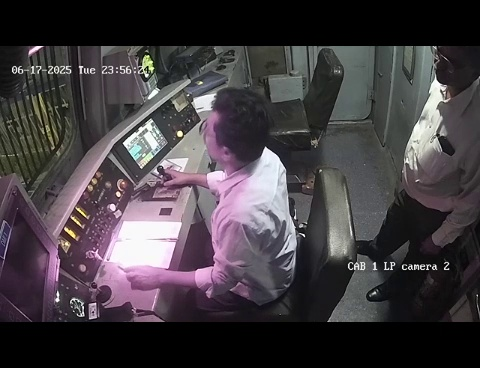horn_inactive: (79, 272, 124, 314)
